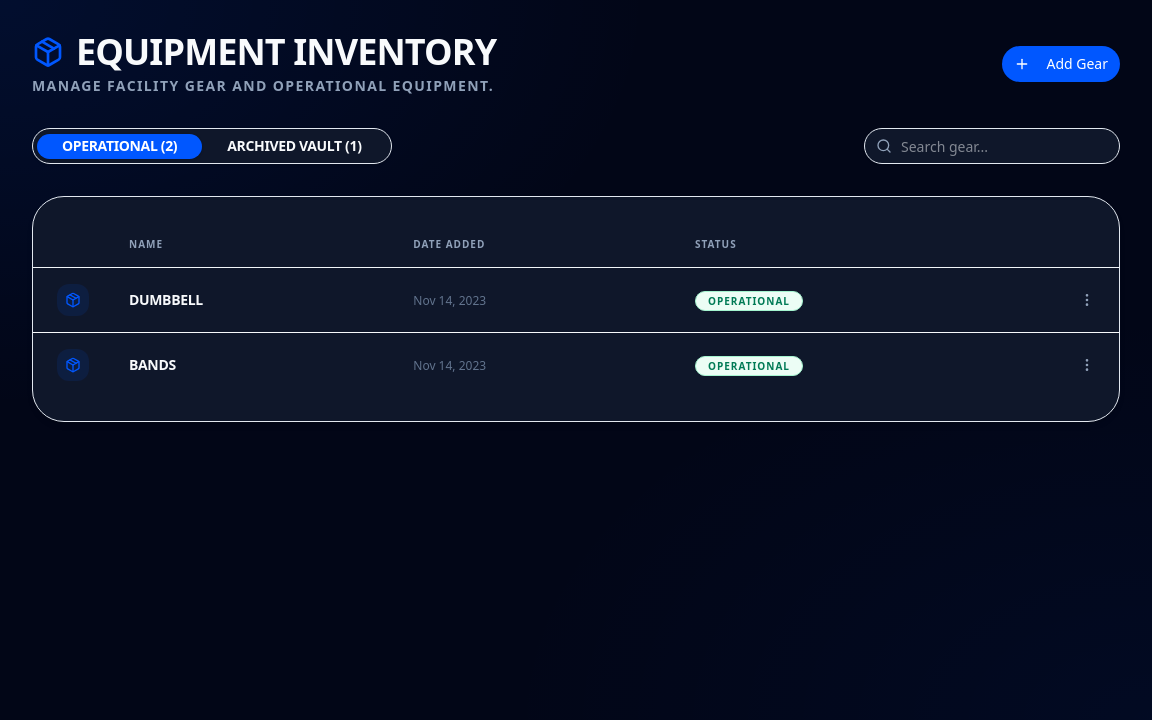
Inventory Page › filters rows by search term
The image size is (1152, 720).
In the field with placeholder "Search gear...": (992, 146) x1=864 y1=128 x2=1120 y2=164, type "Dumbbell"
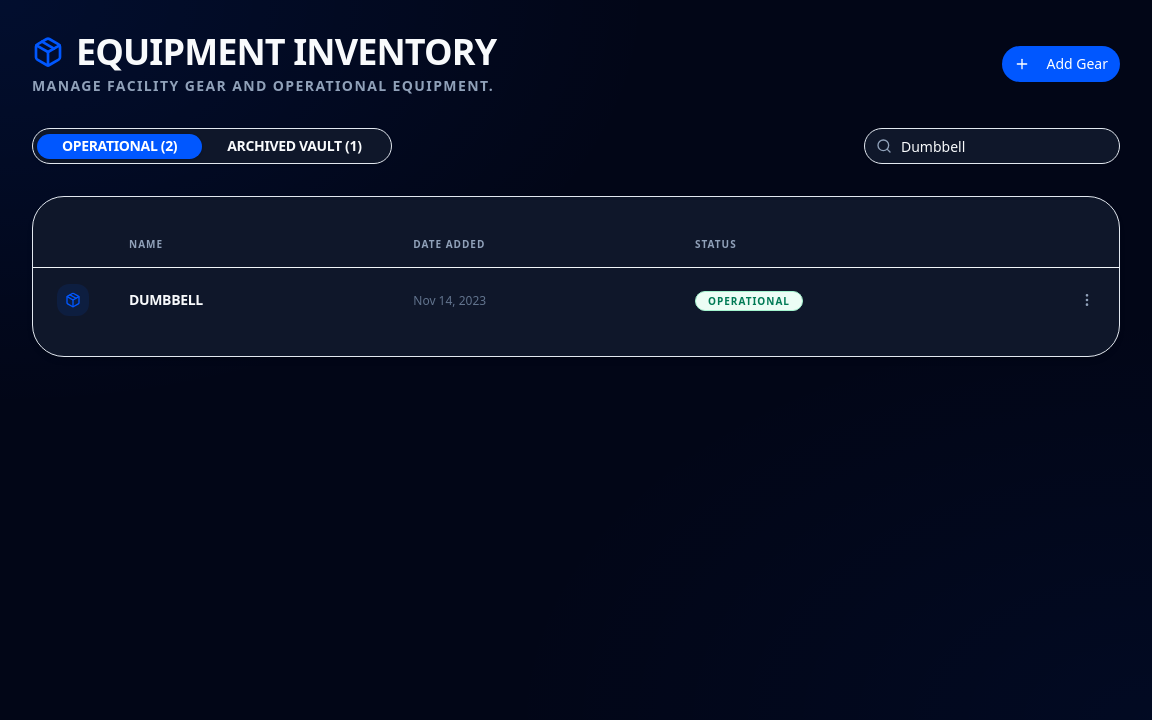
expect the text "Dumbbell" is shown: met, box x1=129 y1=290 x2=203 y2=309
expect the text "Bands" is gone: met
